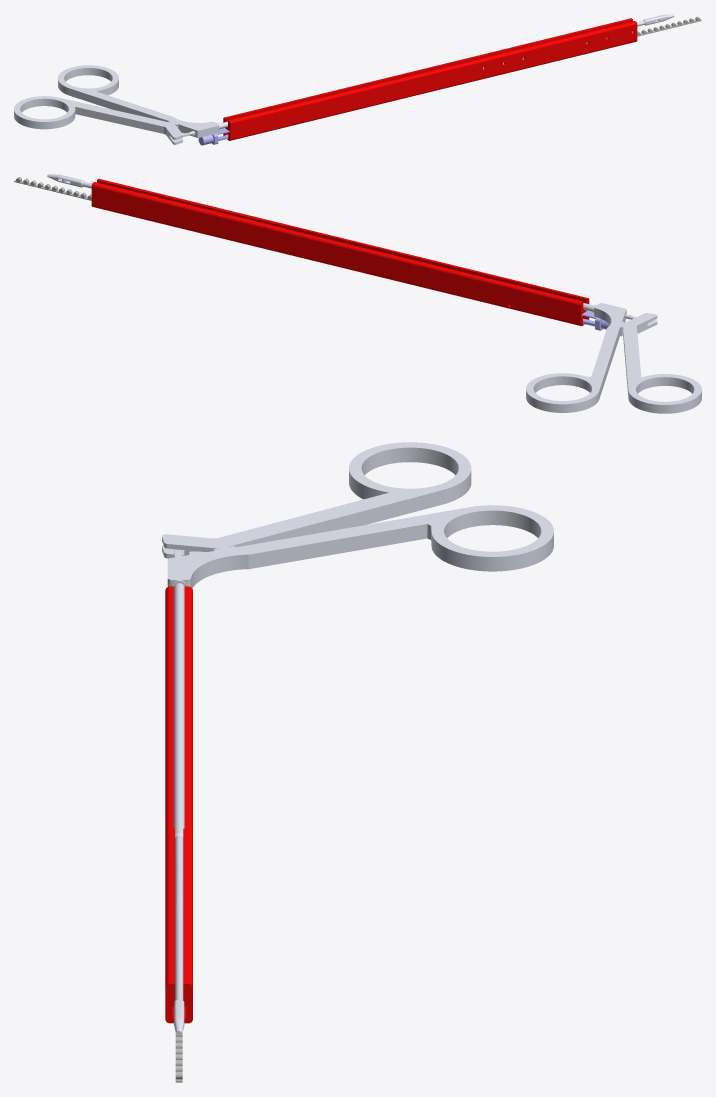
Rendered from microkiap v4 (rest position) (FULL BODY, JAW CLOSED).fbx.
The picture shows the model from 3 angles, top to bottom: view 1: azimuth 30°, elevation 25°; view 2: azimuth 150°, elevation 25°; view 3: azimuth 270°, elevation 25°; orthographic projection. The views are drawn at different scales.
Parts seen in each view (by area): view 1: imagetostl_mesh2, imagetostl_mesh1, imagetostl_mesh3, imagetostl_mesh0; view 2: imagetostl_mesh2, imagetostl_mesh1; view 3: imagetostl_mesh1, imagetostl_mesh2, imagetostl_mesh4.
Boxes of the visible parts, bbox=[...] form: imagetostl_mesh2: bbox=[223, 18, 637, 140]; imagetostl_mesh1: bbox=[14, 14, 674, 144]; imagetostl_mesh3: bbox=[198, 59, 523, 145]; imagetostl_mesh0: bbox=[637, 16, 701, 36]; imagetostl_mesh2: bbox=[91, 179, 589, 326]; imagetostl_mesh1: bbox=[47, 174, 701, 413]; imagetostl_mesh1: bbox=[162, 442, 553, 1034]; imagetostl_mesh2: bbox=[165, 586, 192, 1023]; imagetostl_mesh4: bbox=[178, 510, 541, 1028].
Size of the model in its own units: 31477 by 1050 by 8544.
